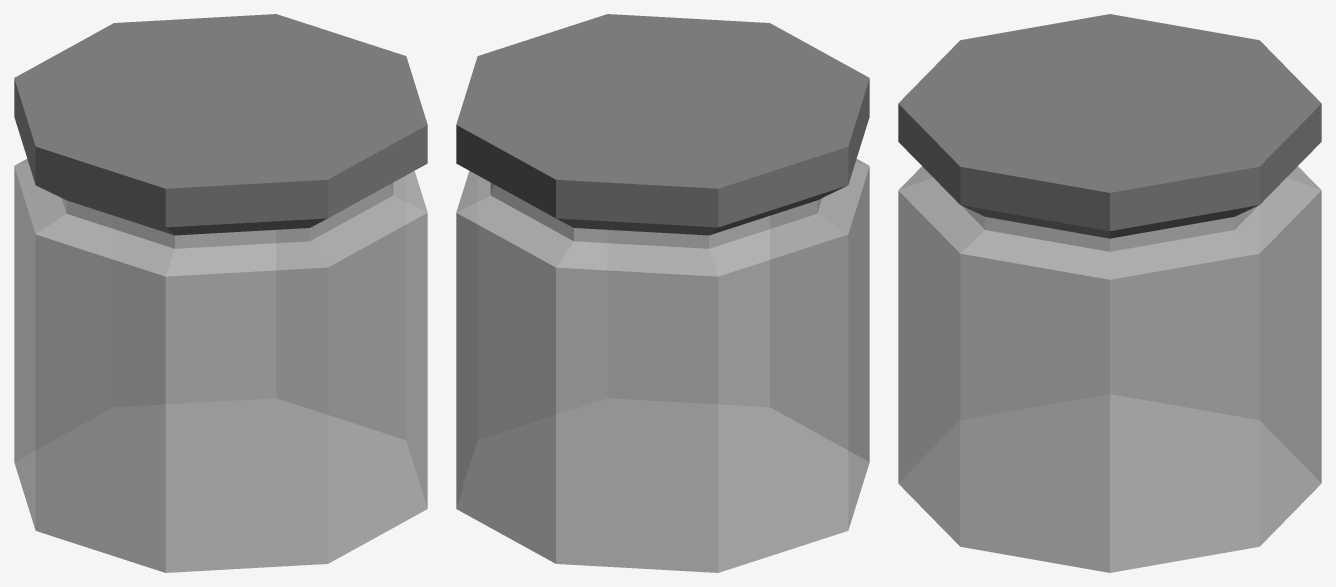
File: emptyJarB.gltf
3 views of the same model, side by side, from view 1: azimuth 30°, elevation 25°; view 2: azimuth 150°, elevation 25°; view 3: azimuth 270°, elevation 25° (orthographic).
Parts seen in each view (by area): view 1: emptyJar; view 2: emptyJar; view 3: emptyJar.
Boxes of the visible parts, x1,y1,x2,y2 form: emptyJar: (14, 14, 427, 572); emptyJar: (456, 14, 869, 572); emptyJar: (898, 14, 1321, 572).
Size of what is drawn, in the model's own units: 0.2 by 0.1981 by 0.2.
Materials: 2 (2 with a texture image).
